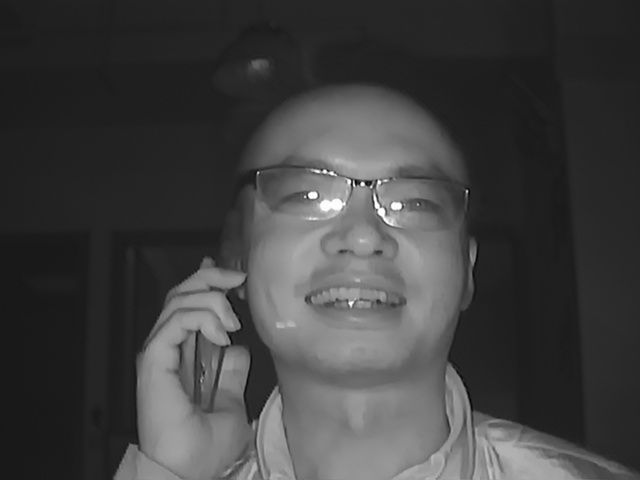hand: (130, 261, 255, 463)
